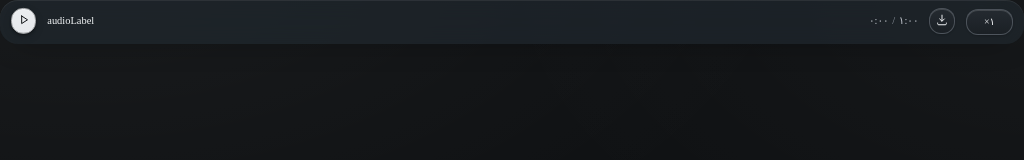
Scenario: AudioBar › gives the speed key a width that does not change with its label
Click the button named "audioSpeed" at (989, 22), box [966,9,1013,35]
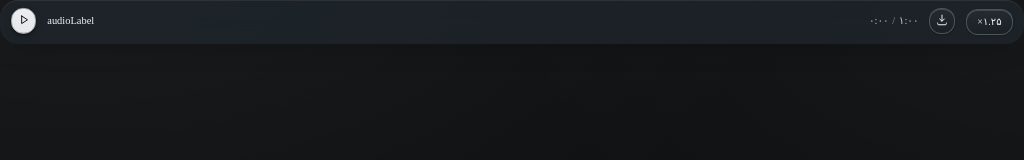
Expected: the button "×۱.۲۵" is shown, [966,9,1013,35]
